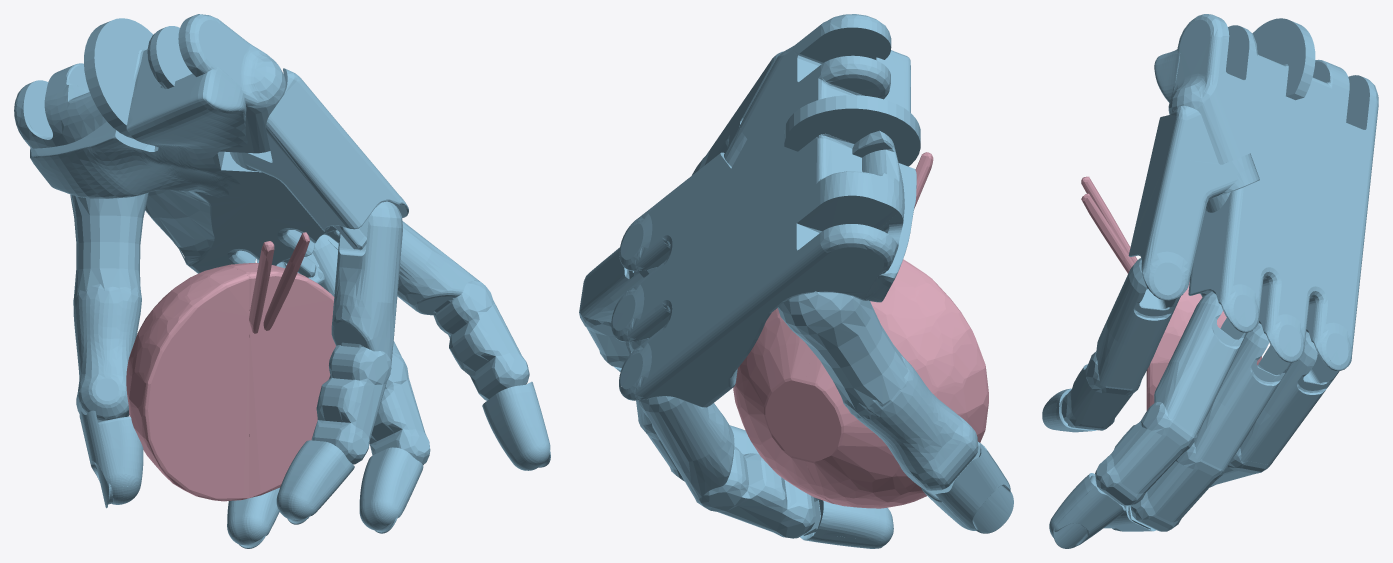
The picture shows the model from 3 angles, left to right: view 1: azimuth 30°, elevation 25°; view 2: azimuth 150°, elevation 25°; view 3: azimuth 270°, elevation 25°; orthographic projection. The views are drawn at different scales.
Parts seen in each view (by area): view 1: hand_isaac_q, world; view 2: hand_isaac_q, world; view 3: hand_isaac_q, world.
Boxes of the visible parts, x1,y1,x2,y2 form: hand_isaac_q: (14,14,550,548); world: (126,232,335,501); hand_isaac_q: (579,14,1013,548); world: (733,152,988,508); hand_isaac_q: (1042,14,1378,548); world: (1081,176,1261,410).
Bounding box in the file's own units: 0.1445 × 0.1777 × 0.1174.
